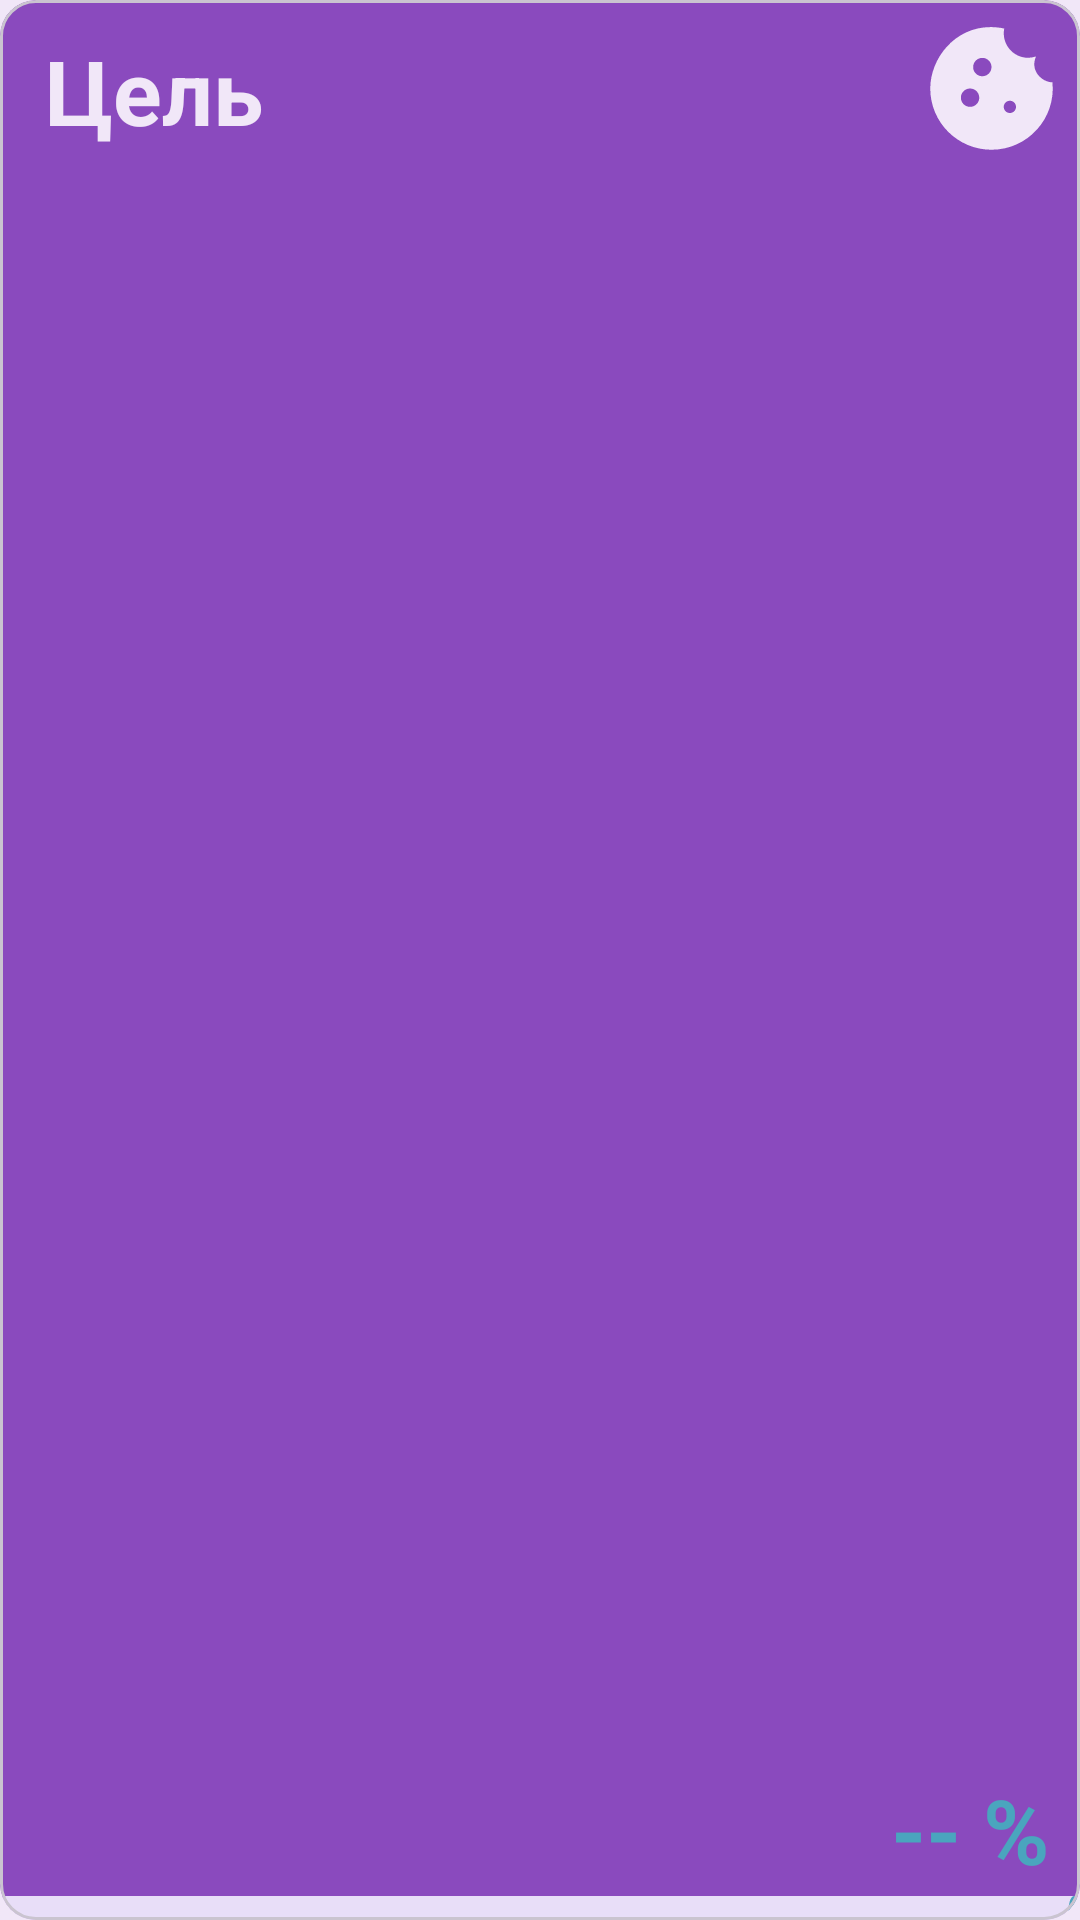

Where to tap for icons on this 1080 x 1920 app screen, as (x,y):
cookie: (991,88)
